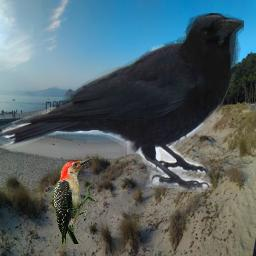Crow: (0, 13, 244, 192)
Woodpecker: (53, 158, 99, 244)
